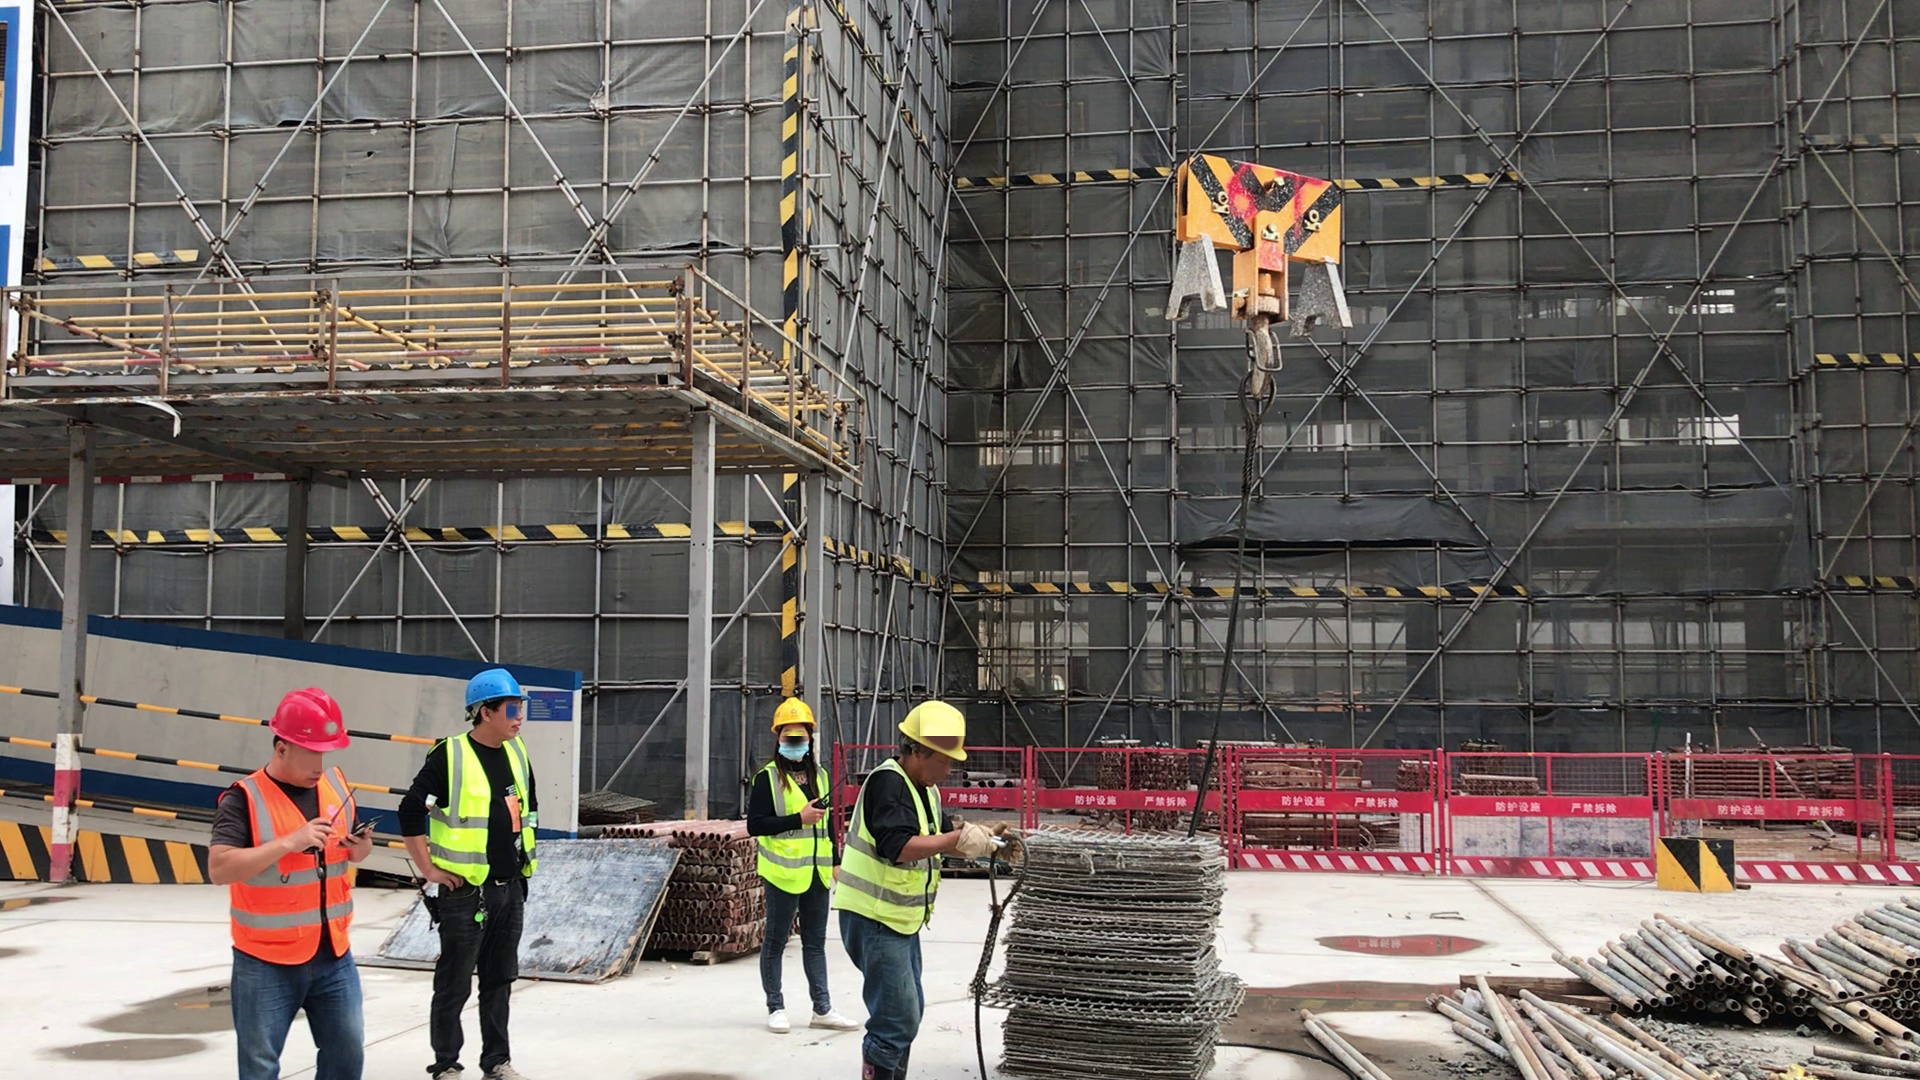fence: (981, 746, 1920, 889)
helmet: (267, 687, 350, 753), (897, 697, 966, 756), (466, 668, 527, 704), (771, 692, 816, 729)
hook: (1170, 154, 1356, 400)
person: (205, 688, 378, 1080), (833, 699, 1004, 1080), (401, 674, 540, 1080), (744, 696, 861, 1038)
scaffold: (1016, 824, 1227, 1080), (673, 826, 766, 964)
vest: (223, 769, 356, 965), (832, 760, 942, 934), (432, 738, 542, 887), (756, 756, 840, 895)
